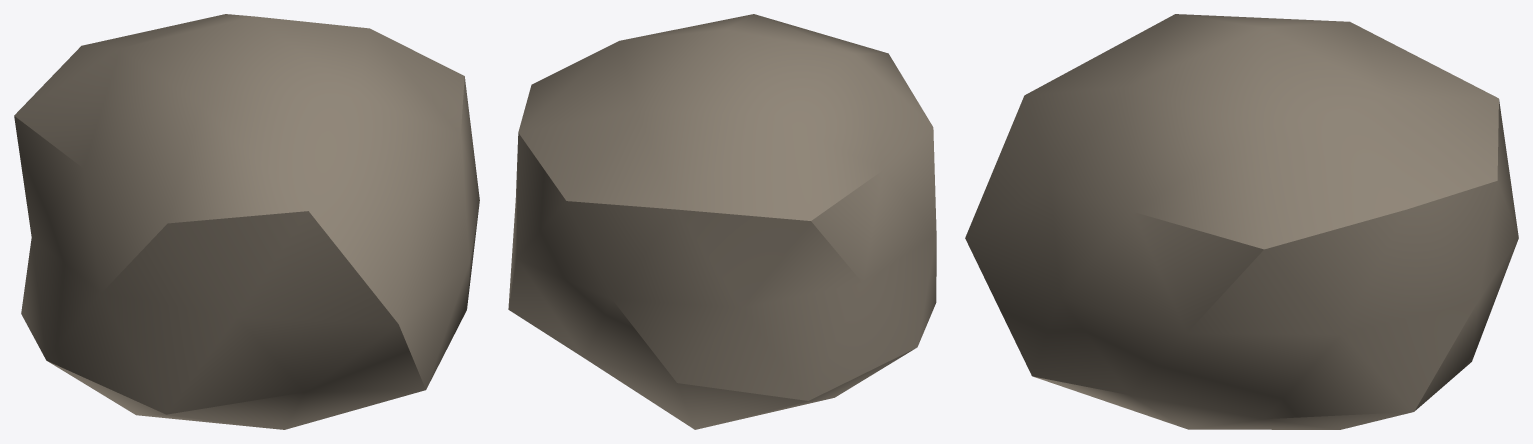
Rendered from nature_boulder.2.glb.
The picture shows the model from 3 angles, left to right: view 1: azimuth 30°, elevation 25°; view 2: azimuth 150°, elevation 25°; view 3: azimuth 270°, elevation 25°; orthographic projection. The views are drawn at different scales.
Visible parts, largest first — view 1: nature_boulder; view 2: nature_boulder; view 3: nature_boulder.
Part boxes in pixels (left/top/right/bottom): nature_boulder: left=14, top=14, right=479, bottom=429; nature_boulder: left=508, top=14, right=936, bottom=429; nature_boulder: left=965, top=14, right=1518, bottom=429.
Bounding box in the file's own units: 0.8293 × 0.7096 × 0.9152.
